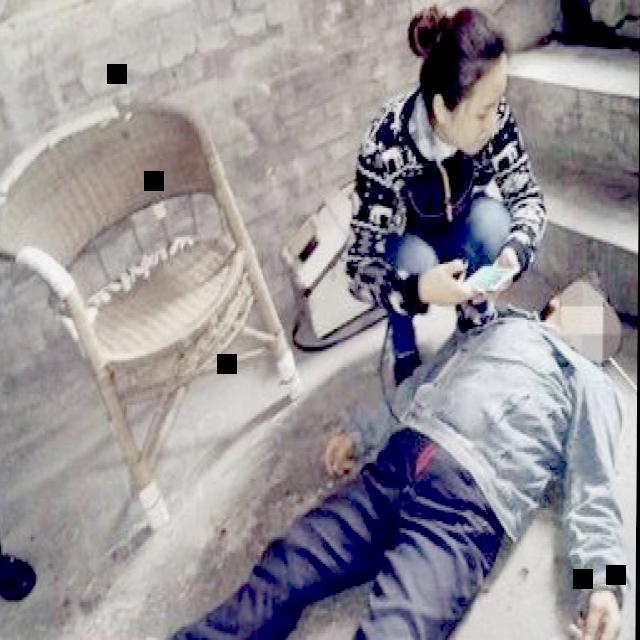Fall-Detected: (41, 228, 639, 640)
